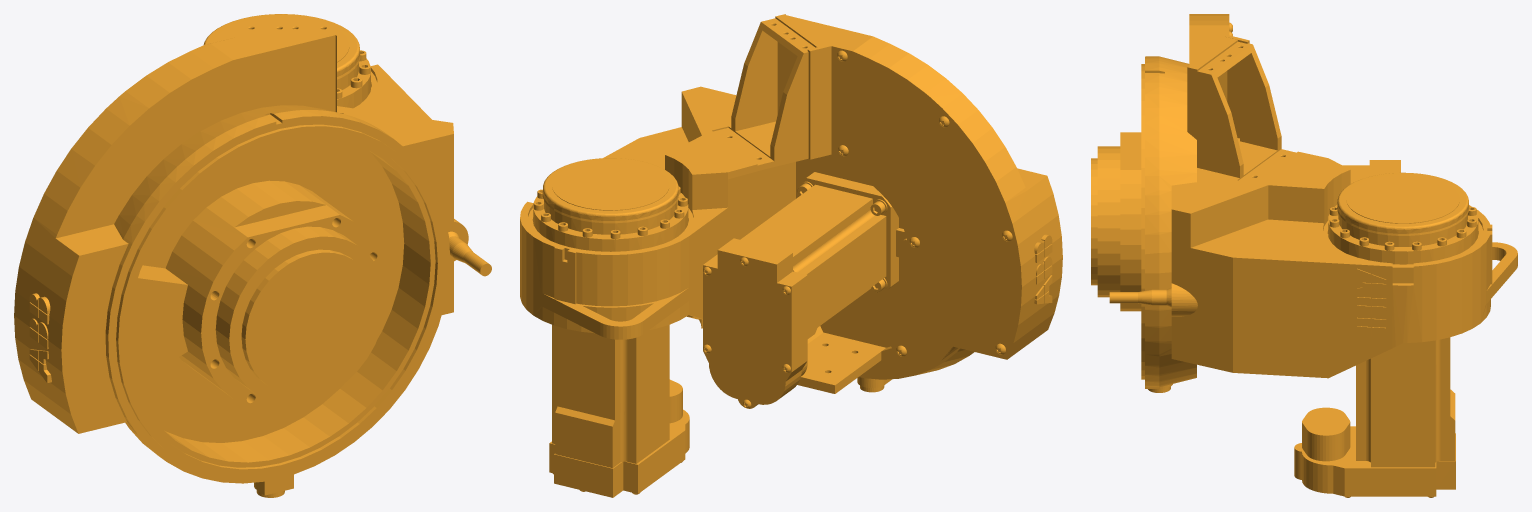
The model's file is ABBIRB1520IDLink1.dae.
3 renders of one model, left to right at view 1: azimuth 30°, elevation 25°; view 2: azimuth 150°, elevation 25°; view 3: azimuth 270°, elevation 25°, orthographic. The views are drawn at different scales.
Parts seen in each view (by area): view 1: IRB1520IDLink1; view 2: IRB1520IDLink1; view 3: IRB1520IDLink1.
Part boxes in pixels (x1,y1,x2,y2): IRB1520IDLink1: [14, 14, 491, 497]; IRB1520IDLink1: [520, 14, 1062, 497]; IRB1520IDLink1: [1091, 14, 1517, 497].
Size of the model in its own units: 0.474 by 0.4512 by 0.4449.
